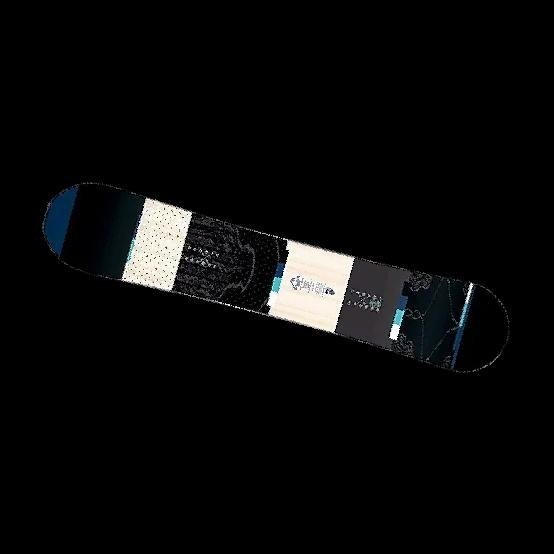Snowboard: (31, 175, 516, 381)
